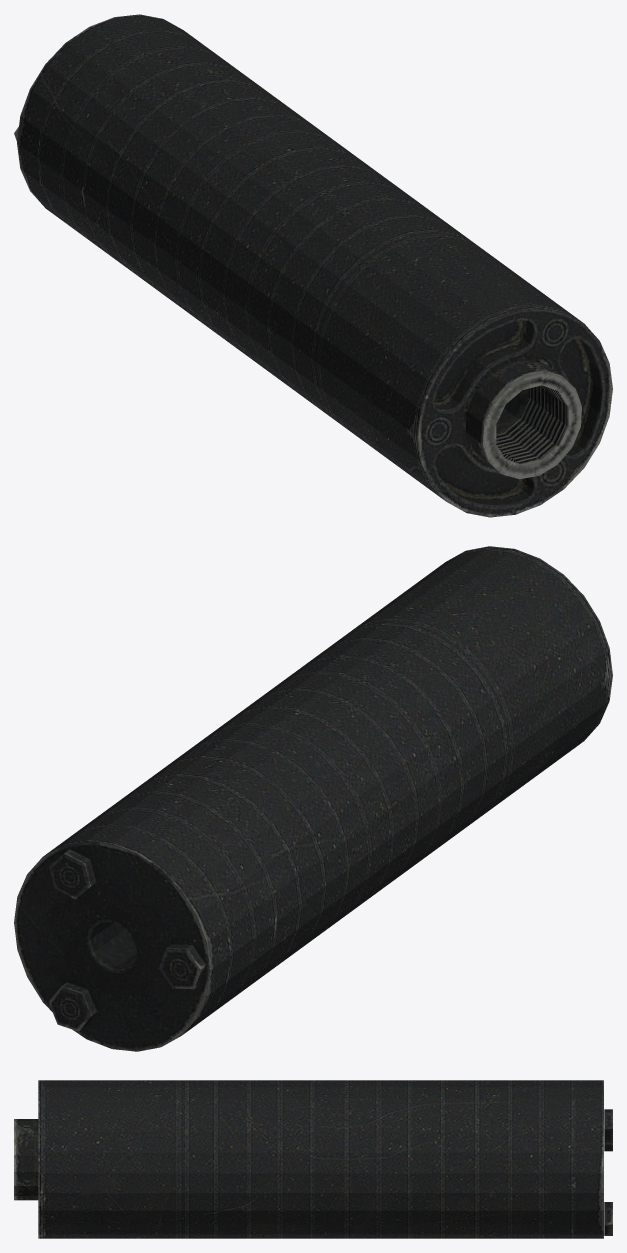
3 views of the same model, one above another, from view 1: azimuth 30°, elevation 25°; view 2: azimuth 150°, elevation 25°; view 3: azimuth 270°, elevation 25° (orthographic). The views are drawn at different scales.
Visible parts, largest first — view 1: TW_593d489686f7745c6255d58a_PZ_Import; view 2: TW_593d489686f7745c6255d58a_PZ_Import; view 3: TW_593d489686f7745c6255d58a_PZ_Import.
Boxes of the visible parts, box(x1,y1,x2,y2) form: TW_593d489686f7745c6255d58a_PZ_Import: box(14, 14, 612, 517); TW_593d489686f7745c6255d58a_PZ_Import: box(14, 546, 612, 1051); TW_593d489686f7745c6255d58a_PZ_Import: box(14, 1080, 612, 1238).
Bounding box in the file's own units: 0.0308 × 0.1157 × 0.0308.
1 material, 1 textured.
